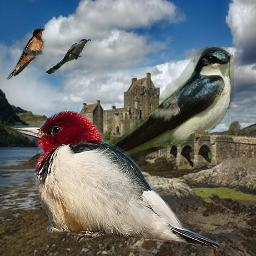Cuckoo: (45, 38, 91, 74)
Swallow: (89, 46, 234, 173), (5, 27, 46, 80)
Woodpecker: (10, 111, 223, 248)
